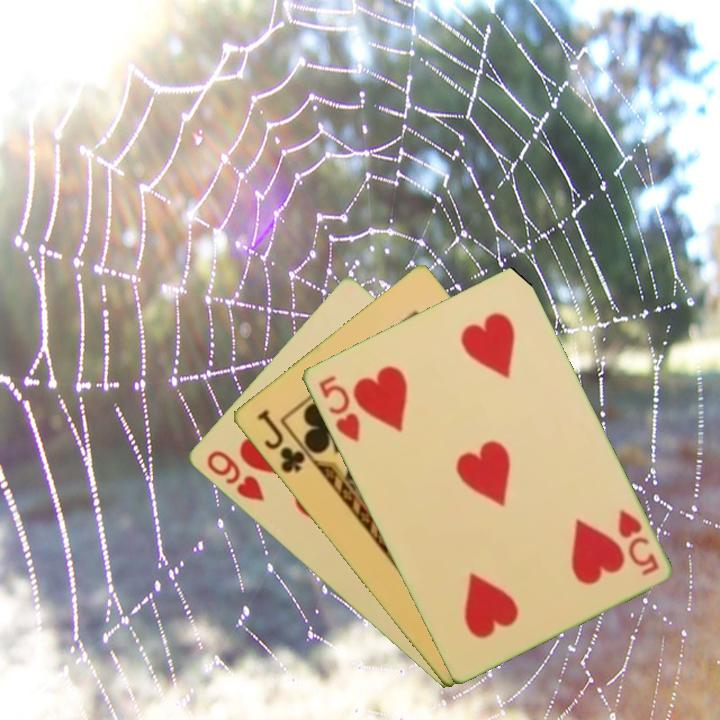5h: (314, 371, 363, 445), (613, 505, 661, 579)
9h: (202, 446, 267, 505)
Jc: (252, 406, 308, 477)
